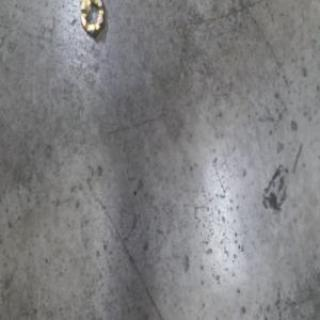Nuttrack_idkeyframe: (77, 0, 106, 42)
